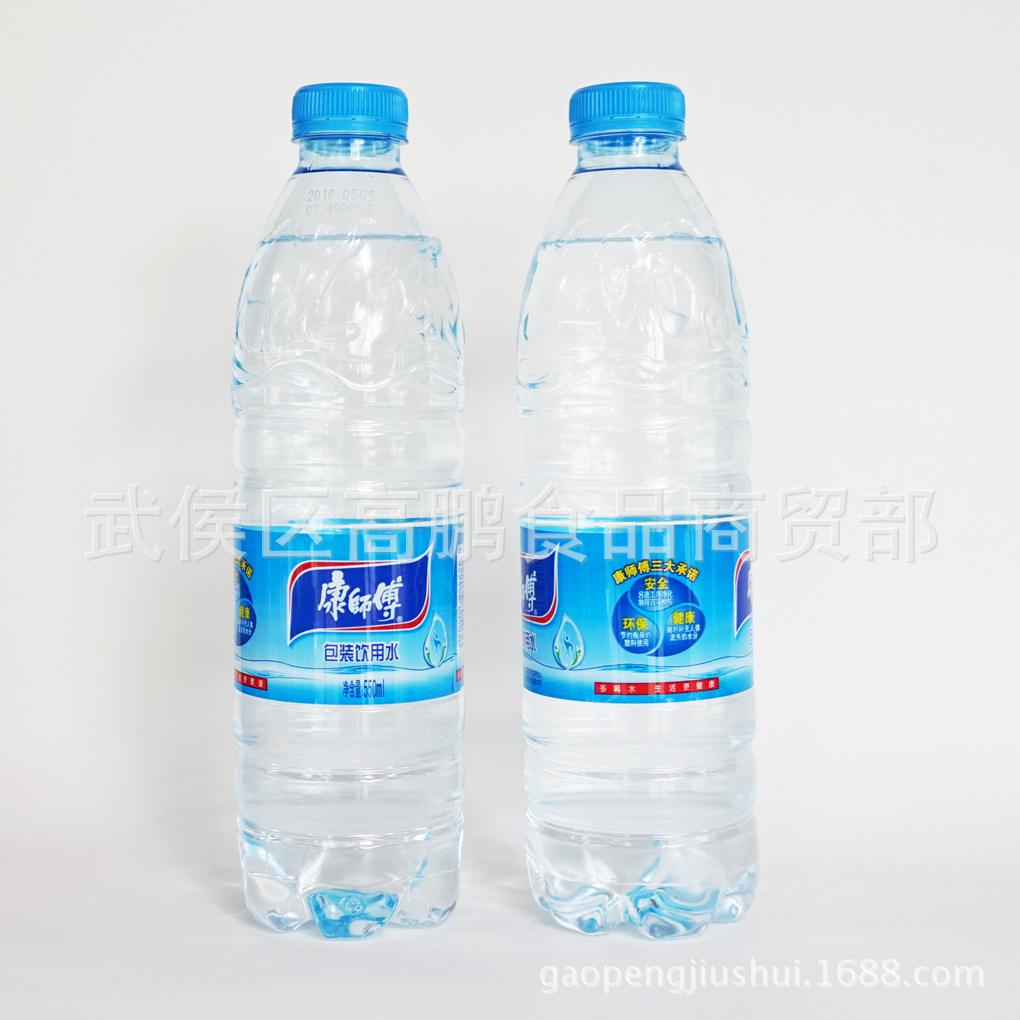amwater: (490, 68, 809, 965), (198, 42, 504, 953)
